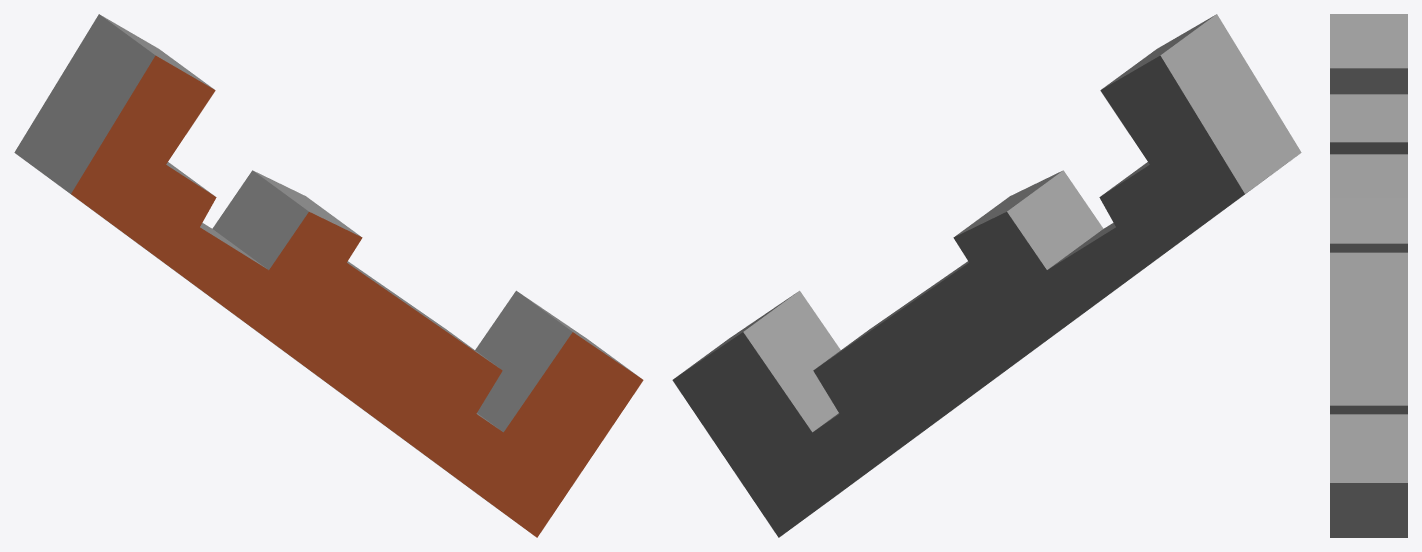
The model's file is construction_1710_assumed_A_Casa_h6m.obj.
3 renders of one model, left to right at view 1: azimuth 30°, elevation 25°; view 2: azimuth 150°, elevation 25°; view 3: azimuth 270°, elevation 25°, orthographic. The views are drawn at different scales.
Visible parts, largest first — view 1: construction_1710_assumed_A_Casa; view 2: construction_1710_assumed_A_Casa; view 3: construction_1710_assumed_A_Casa.
Part boxes in pixels (x1,y1,x2,y2): construction_1710_assumed_A_Casa: (14, 14, 643, 537); construction_1710_assumed_A_Casa: (672, 14, 1301, 537); construction_1710_assumed_A_Casa: (1330, 14, 1407, 537).
Bounding box in the file's own units: 35.05 × 33.66 × 6.
